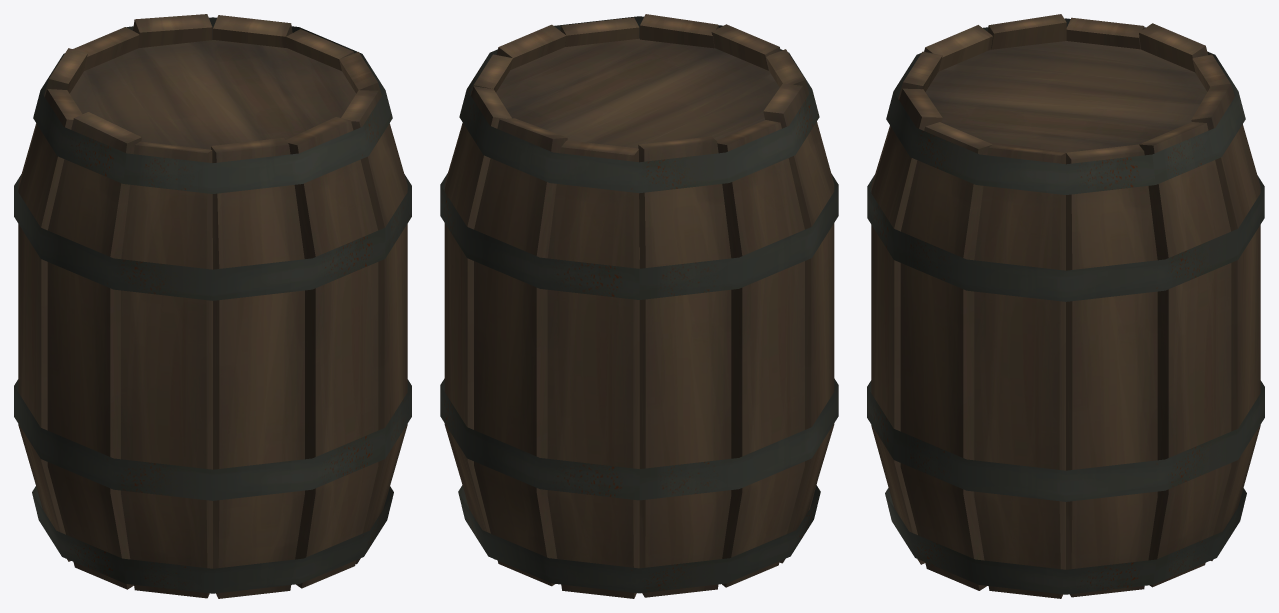
The model's file is SM_Barrel.fbx.
The picture shows the model from 3 angles, left to right: view 1: azimuth 30°, elevation 25°; view 2: azimuth 150°, elevation 25°; view 3: azimuth 270°, elevation 25°; orthographic projection.
Visible parts, largest first — view 1: polySurface37; view 2: polySurface37; view 3: polySurface37.
Boxes of the visible parts, <box> form: polySurface37: <box>14,14,411,598</box>; polySurface37: <box>440,14,838,598</box>; polySurface37: <box>867,14,1264,598</box>.
Size of the model in its own units: 273 by 342 by 273.
